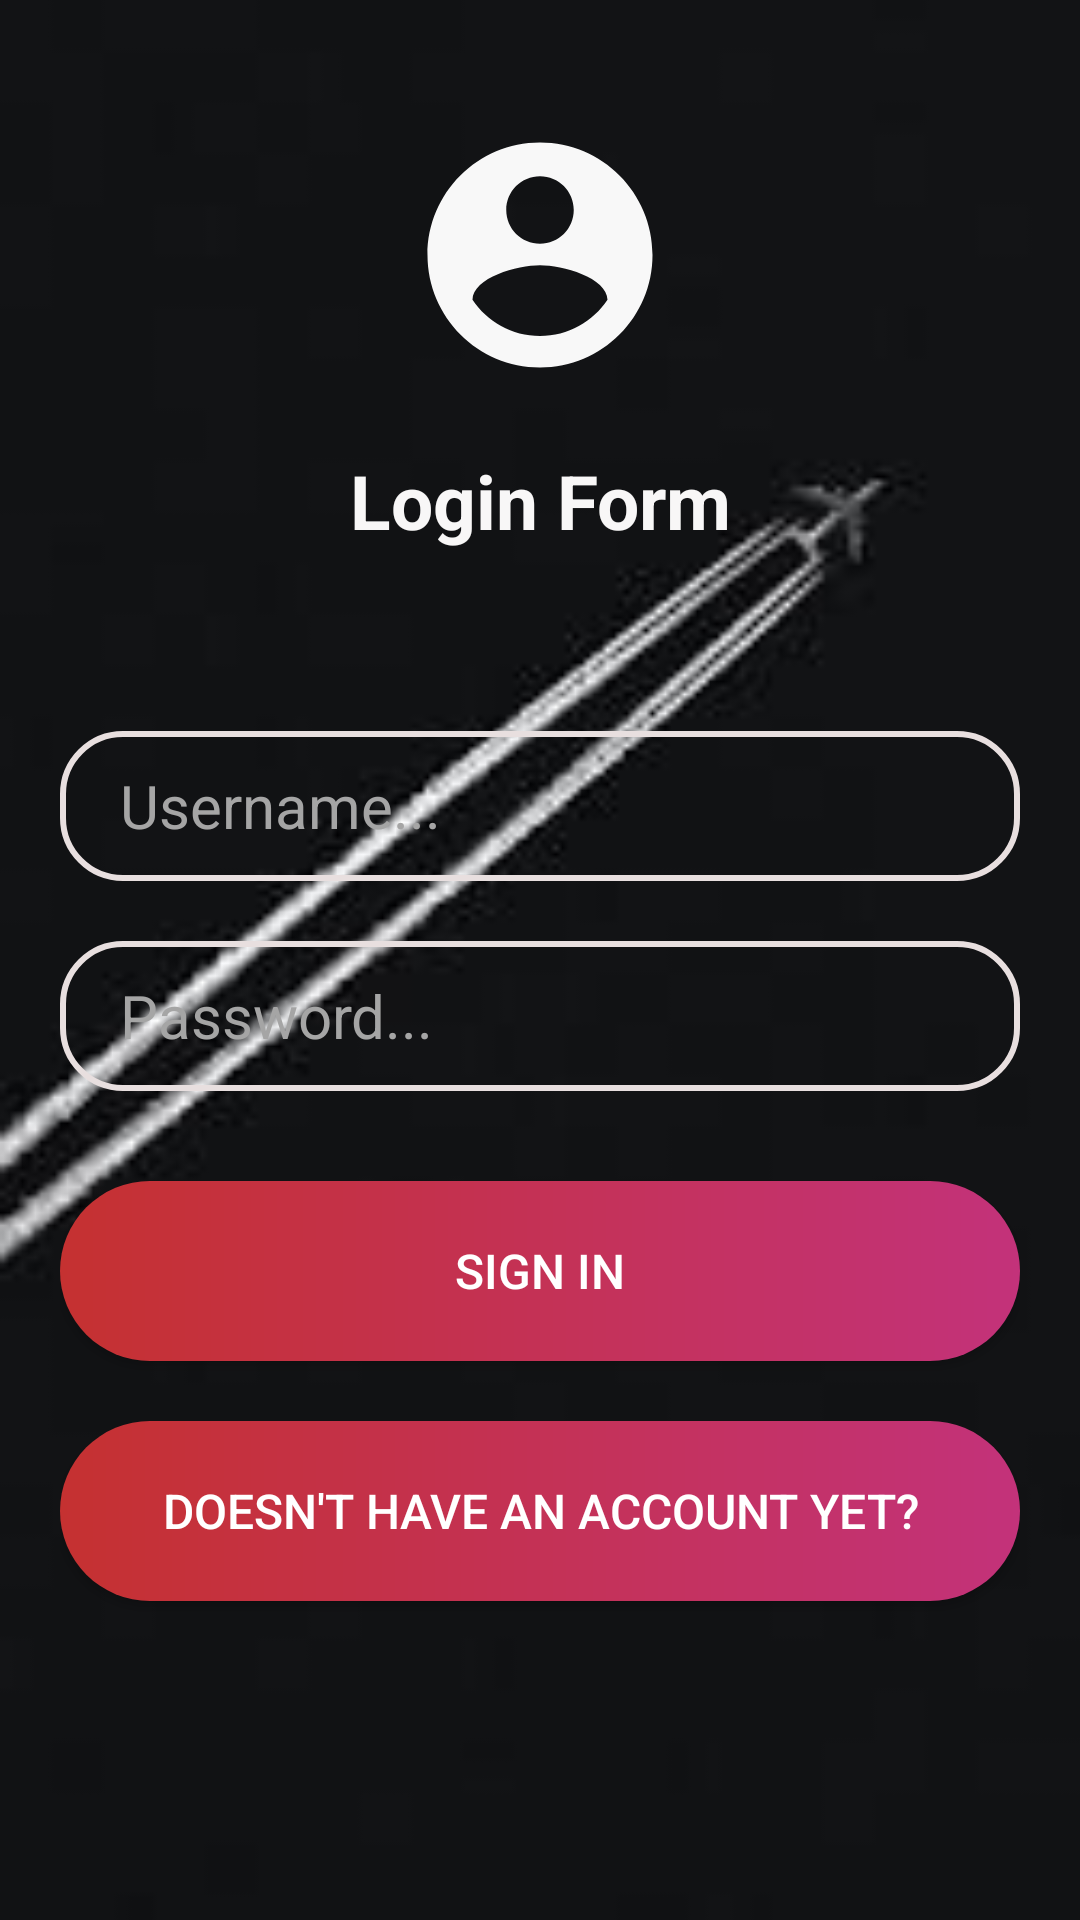

Screen size 1080×1920. Icon name, then its center in pixels as [x,y]:
user: [540,255]
